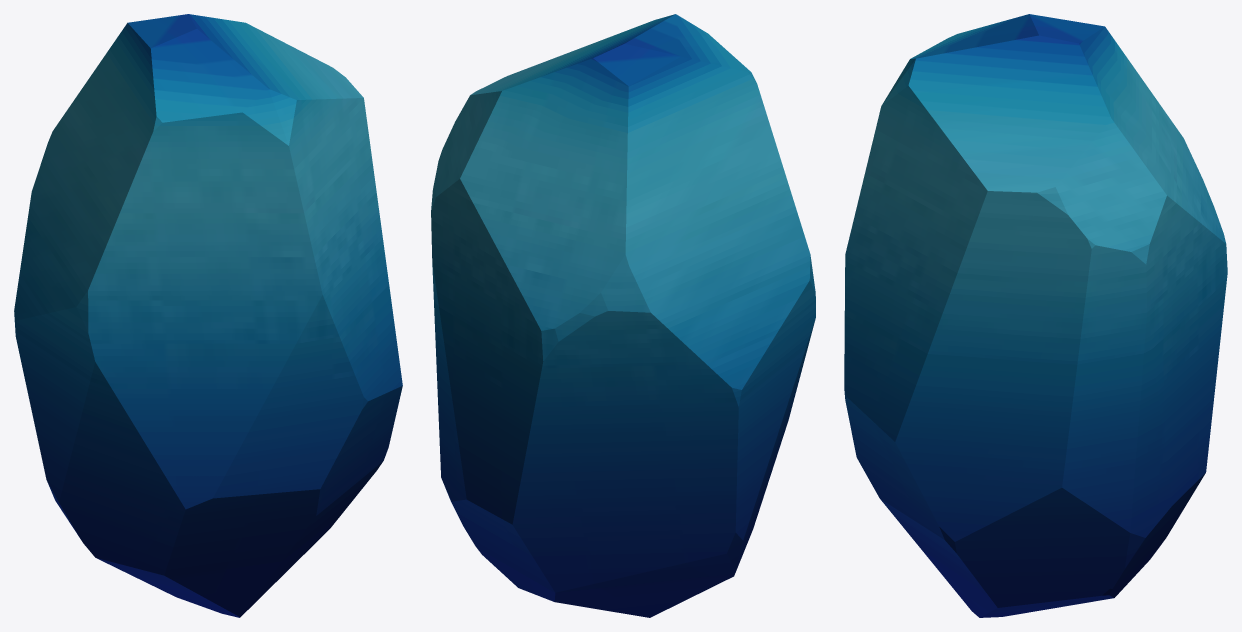
The model's file is rocaesmeralda_07.fbx.
3 renders of one model, left to right at view 1: azimuth 30°, elevation 25°; view 2: azimuth 150°, elevation 25°; view 3: azimuth 270°, elevation 25°, orthographic.
Parts seen in each view (by area): view 1: cueva04; view 2: cueva04; view 3: cueva04.
Part boxes in pixels (x1,y1,x2,y2): cueva04: [14, 14, 402, 617]; cueva04: [431, 14, 815, 617]; cueva04: [844, 14, 1227, 617].
Size of the model in its own units: 511 by 898 by 540.
1 material, 1 textured.
